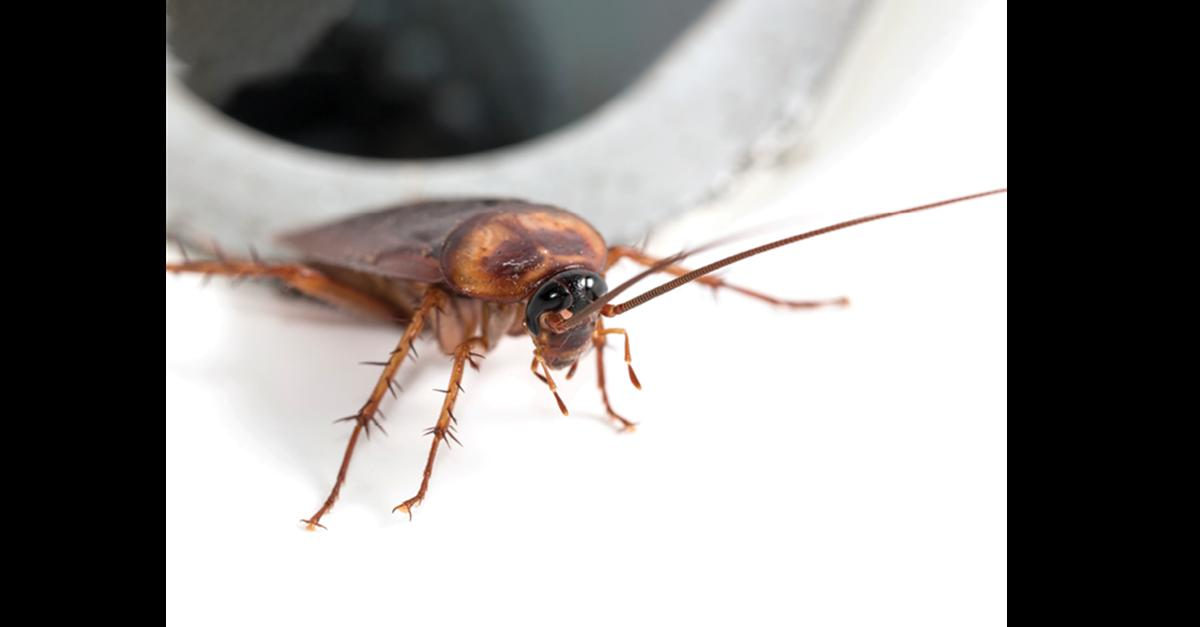cockroach: (268, 193, 668, 403)
